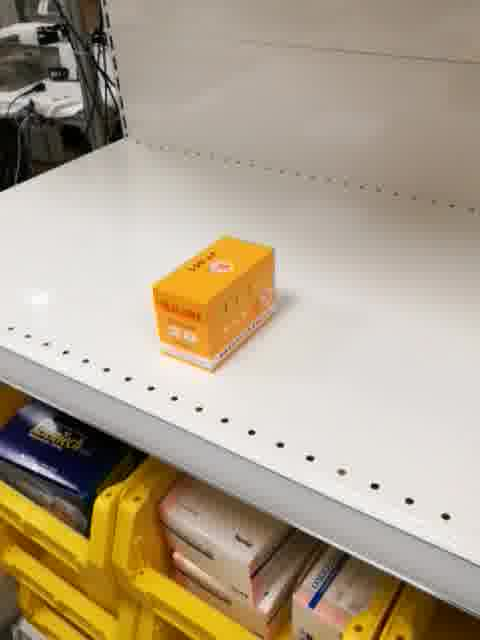jasminetea: (151, 236, 276, 372)
